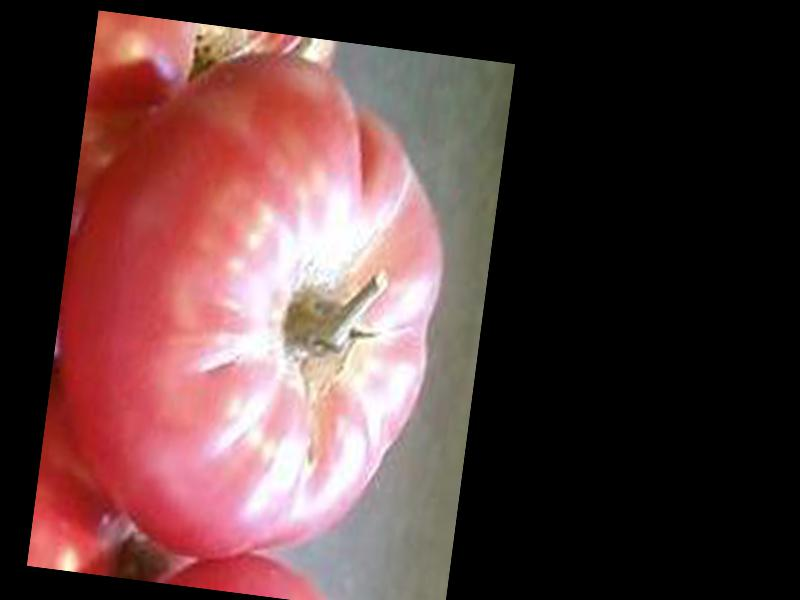Tomato: (32, 28, 466, 583)
